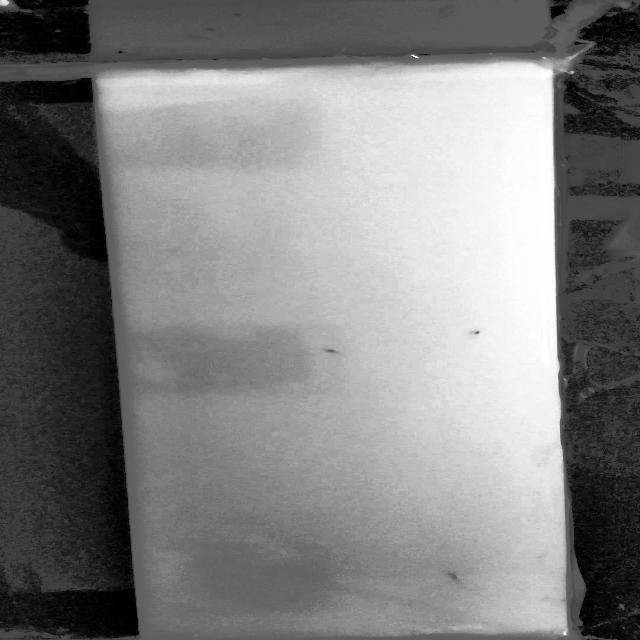shrimp: (438, 567, 472, 591), (462, 325, 495, 346), (315, 343, 344, 361)
